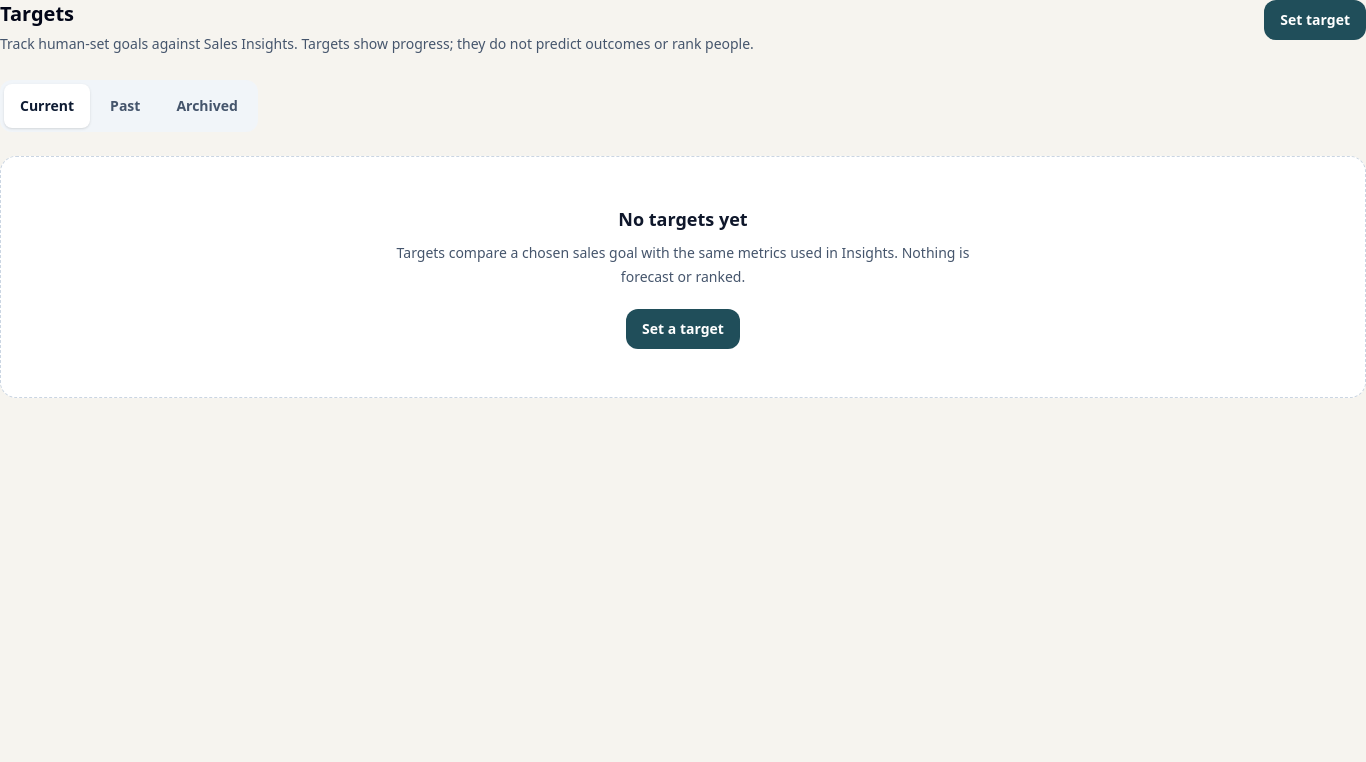
Test case: sales targets › creates an organisation target without accepting an actual value
Click the button "Set target" at [1315, 20], box [1264,0,1365,40]
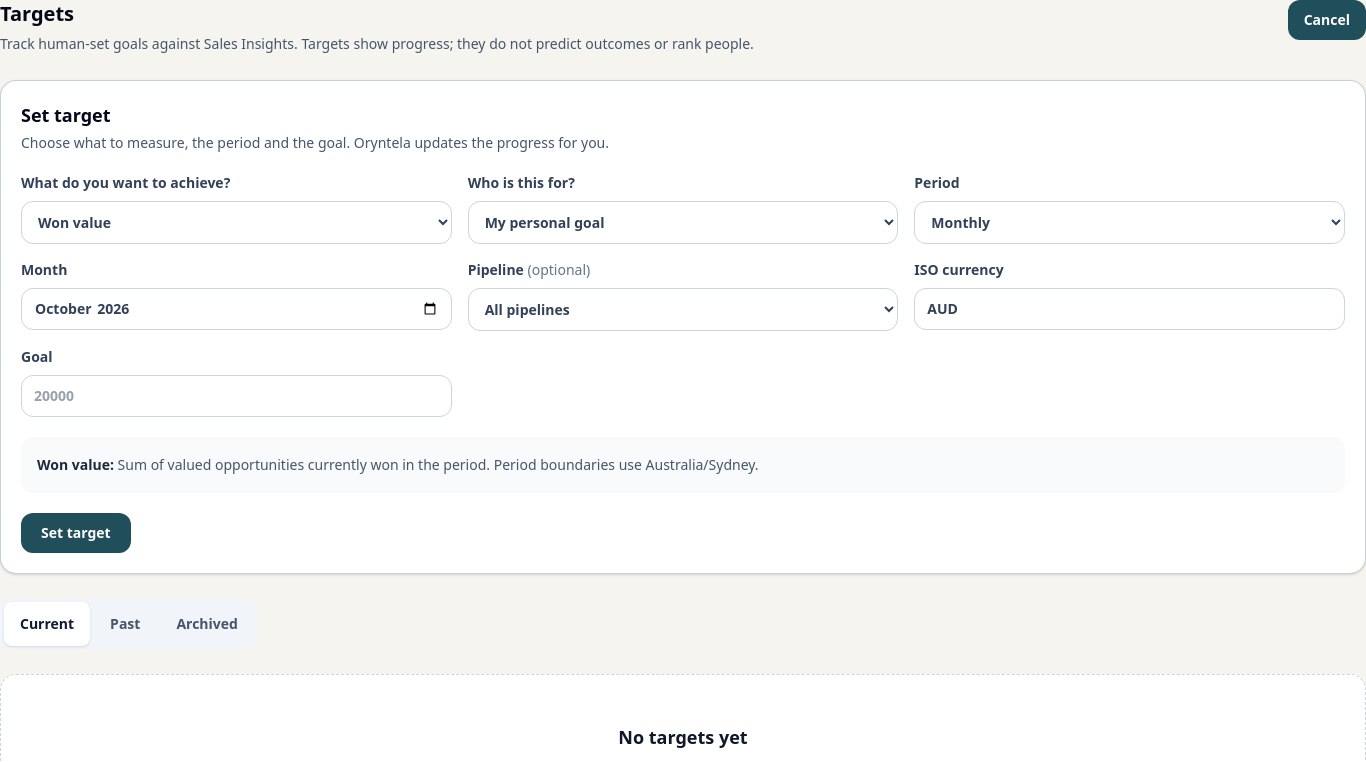
Expected: the form "Set target" is shown
Select "Organisation" in the dropdown labelled "Who is this for?" at [683, 222], box [468,201,898,244]
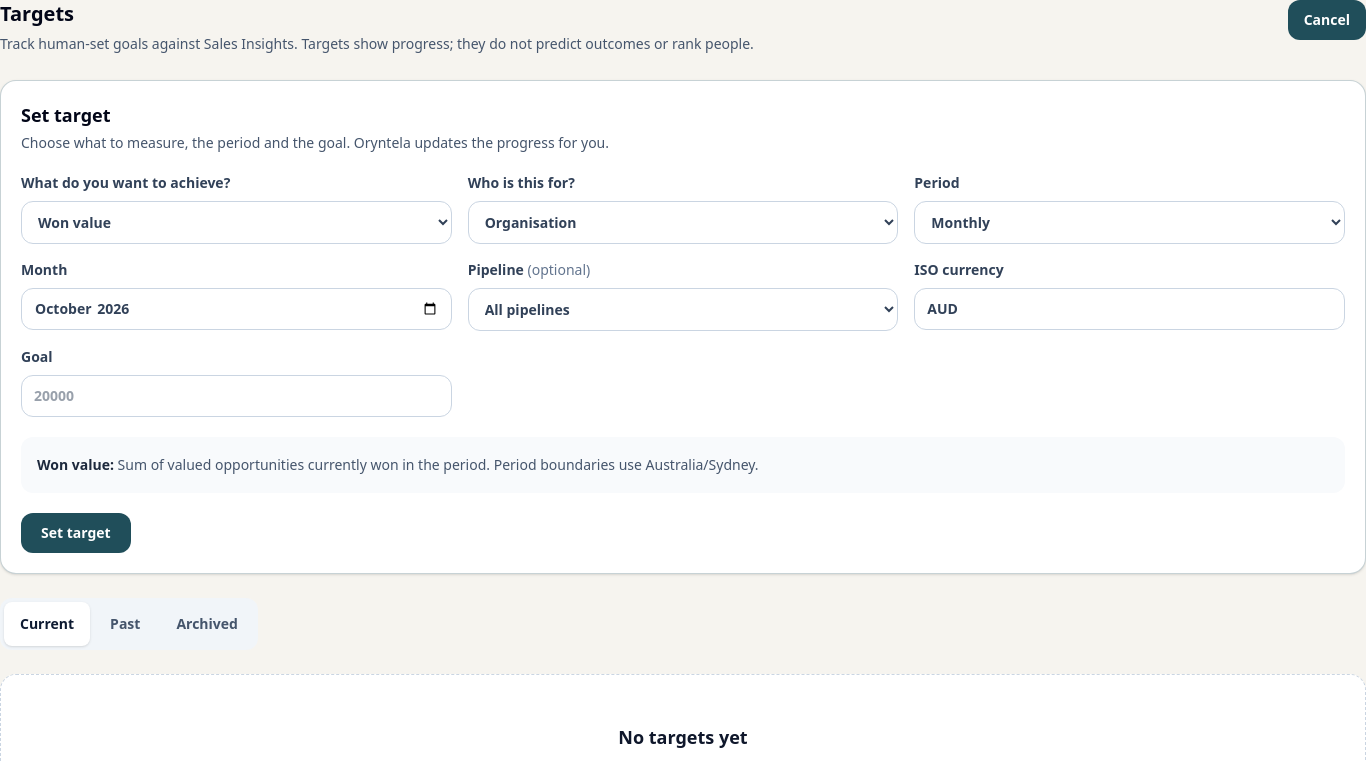
Type "25000" into the field labelled "Goal" at [236, 396], box [21,375,452,417]
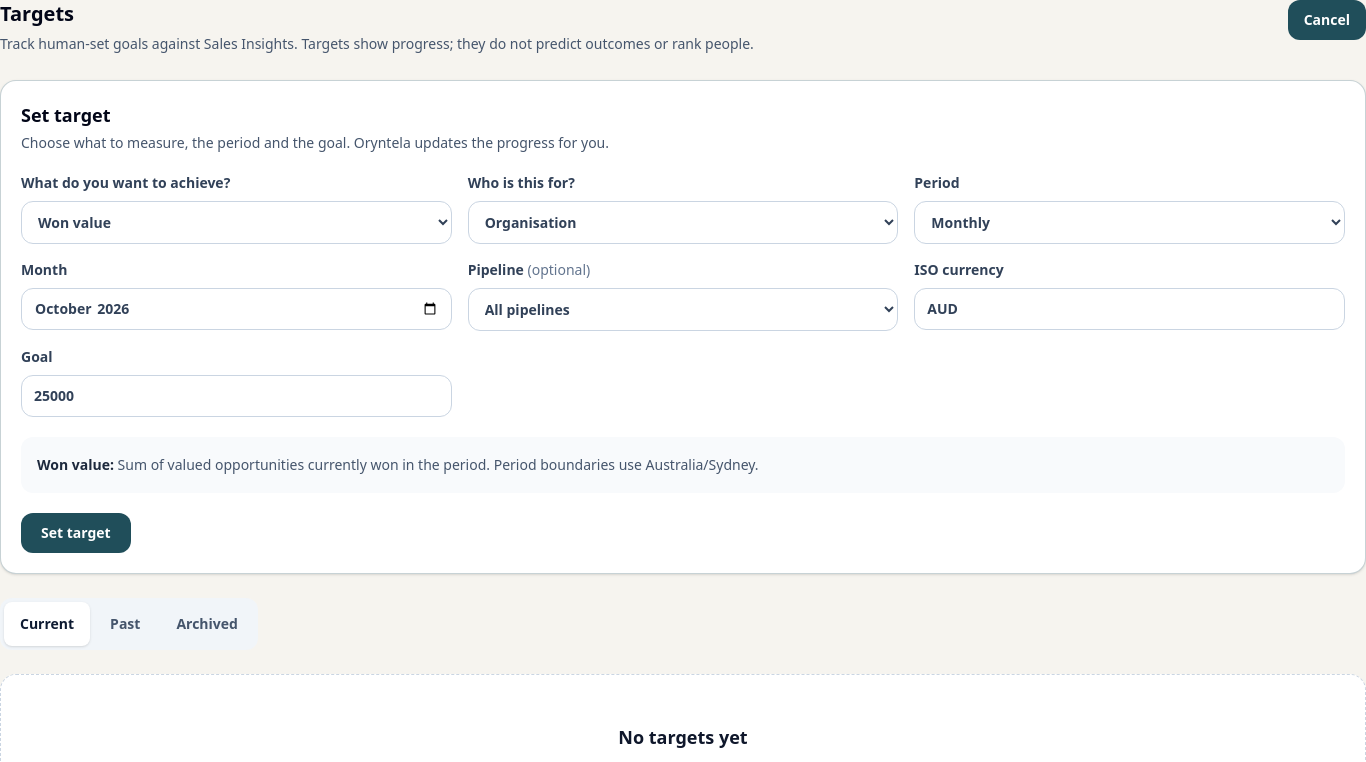
Click the button "Set target" at [76, 533], box [21,513,131,553]
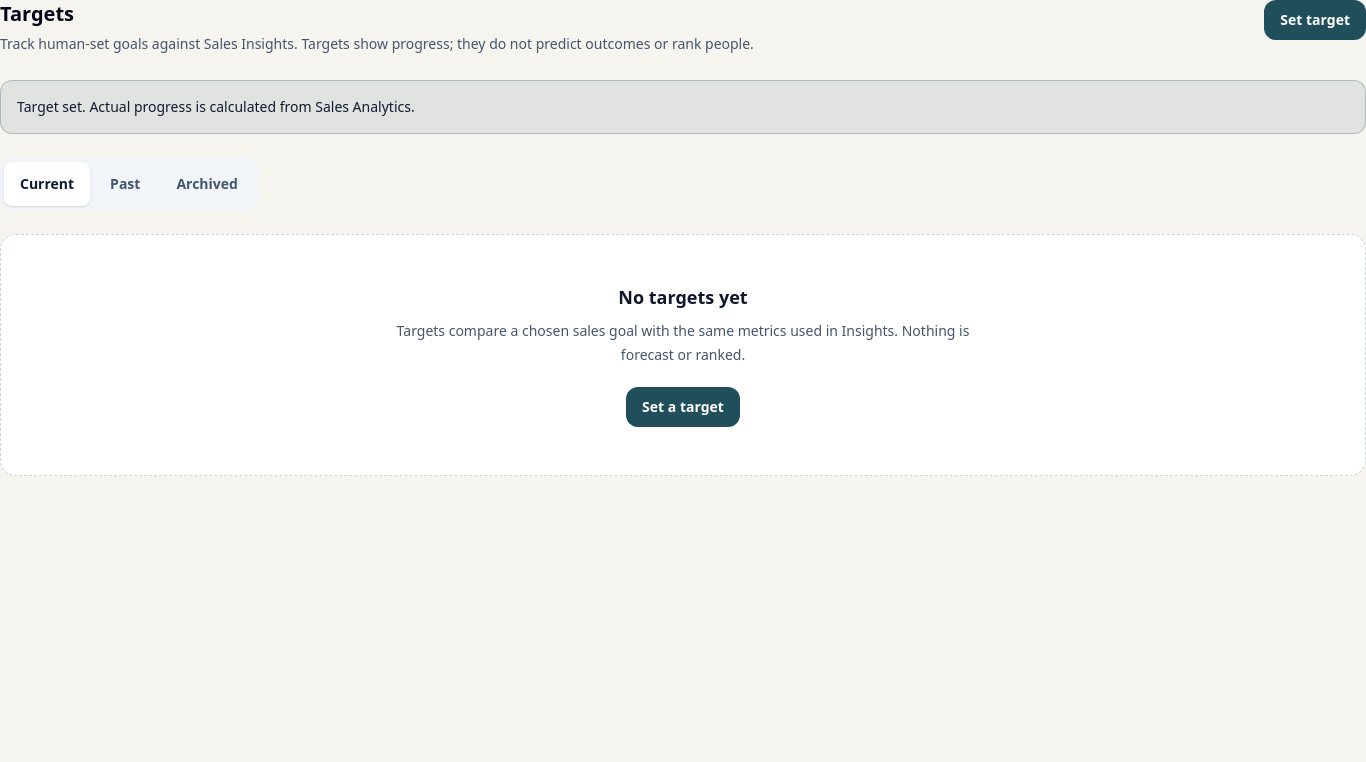
Expected: the text "Target set. Actual progress is calculated from Sales Analytics." is shown, [0,80,1365,134]
